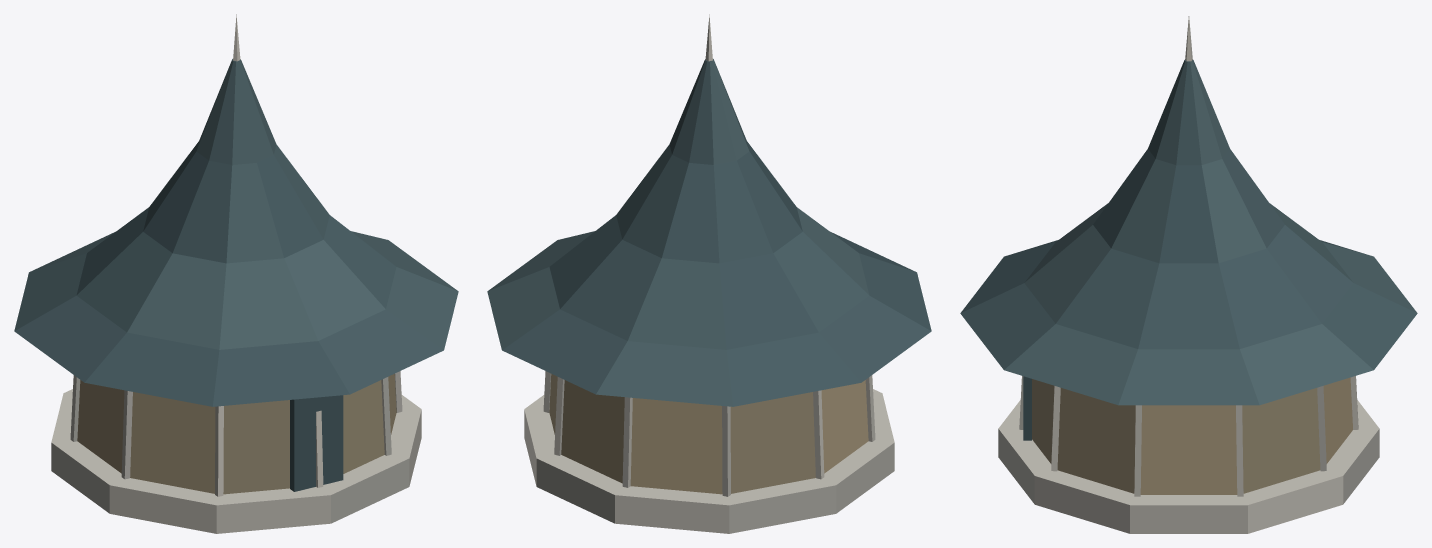
Rendered from elf_house.glb.
3 views of the same model, side by side, from view 1: azimuth 30°, elevation 25°; view 2: azimuth 150°, elevation 25°; view 3: azimuth 270°, elevation 25° (orthographic).
Visible parts, largest first — view 1: elf_house; view 2: elf_house; view 3: elf_house.
Boxes of the visible parts, bbox=[...] form: elf_house: bbox=[14, 14, 458, 533]; elf_house: bbox=[487, 14, 931, 533]; elf_house: bbox=[960, 16, 1417, 533].
Bounding box in the file's own units: 6.85 × 7.7 × 7.2.
1 material, 1 textured.
